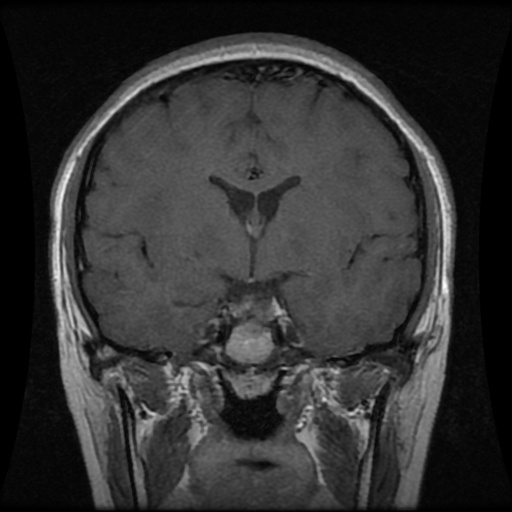pituitary: (230, 293, 284, 323)
